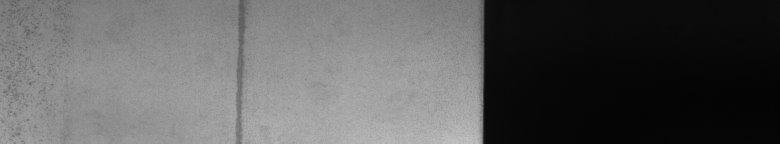hd: (230, 4, 248, 136)
